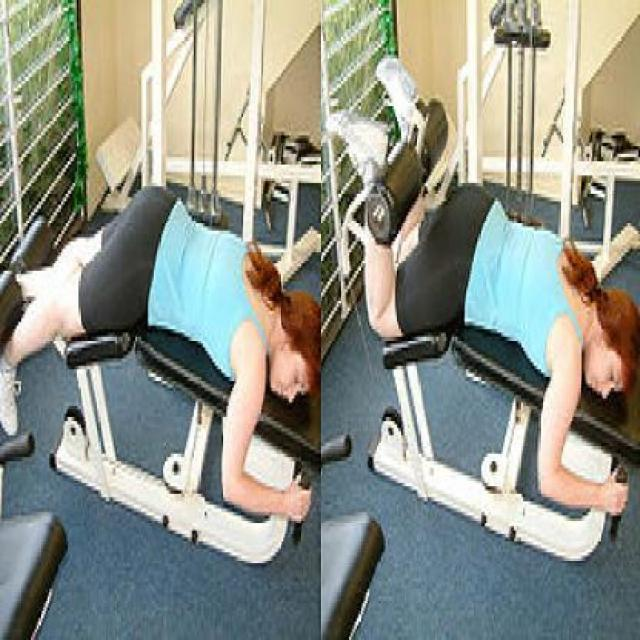reg curl machine: (320, 64, 640, 570), (2, 172, 318, 568)
